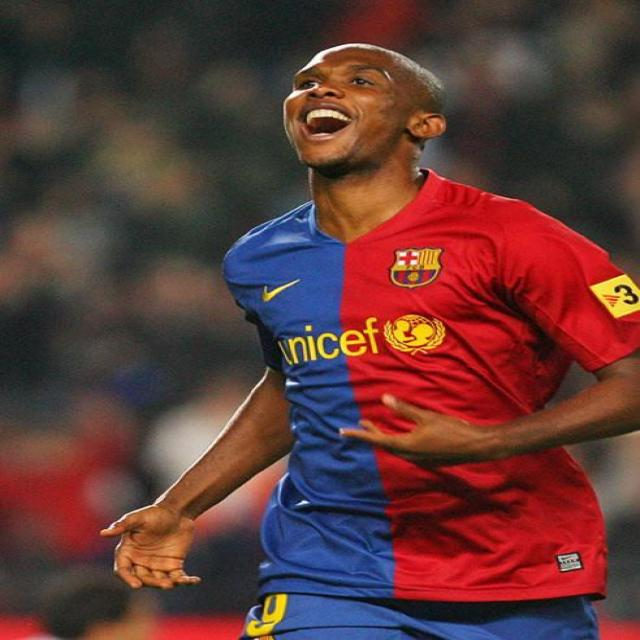T-shirt: (209, 177, 640, 616)
